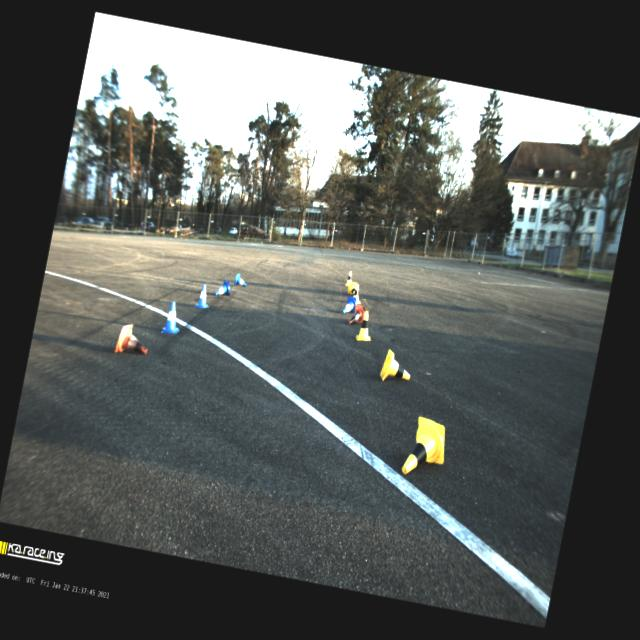blue_cone: (160, 300, 184, 336), (194, 284, 214, 310), (214, 280, 232, 298), (342, 296, 358, 316), (234, 272, 248, 288)
orange_cone: (115, 322, 152, 358), (348, 304, 366, 328)
yellow_cone: (401, 415, 452, 481), (378, 349, 414, 386), (355, 311, 376, 344), (352, 284, 363, 304), (344, 270, 354, 286), (347, 281, 357, 295)
